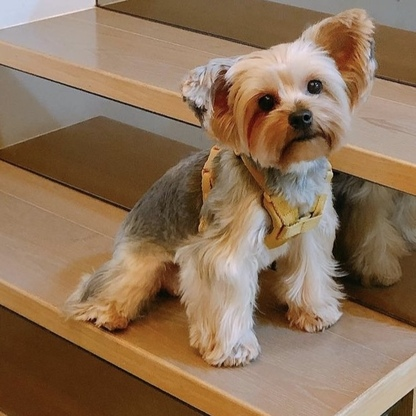yokshine: (67, 8, 378, 368)
